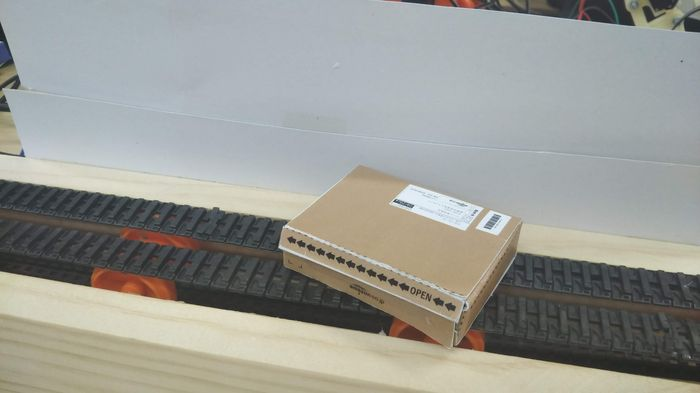box2: (275, 161, 525, 352)
